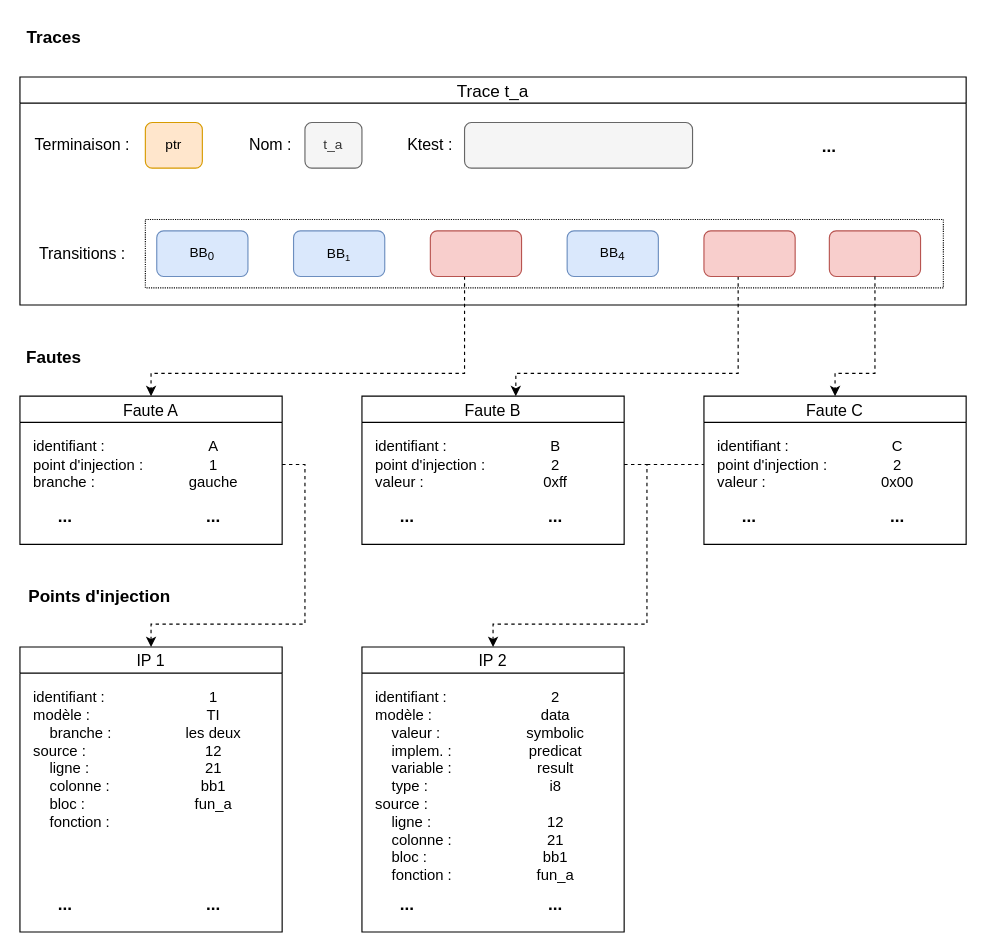
This 986x952 diagram has some shape labels left out. Each missing label, with the centre of its shape:
"./analysis/dse_out/test000012.ktest" belongs at (x=578, y=144).
"Fault A" belongs at (x=475, y=253).
"Fault B" belongs at (x=749, y=253).
"Fault C" belongs at (x=874, y=253).
